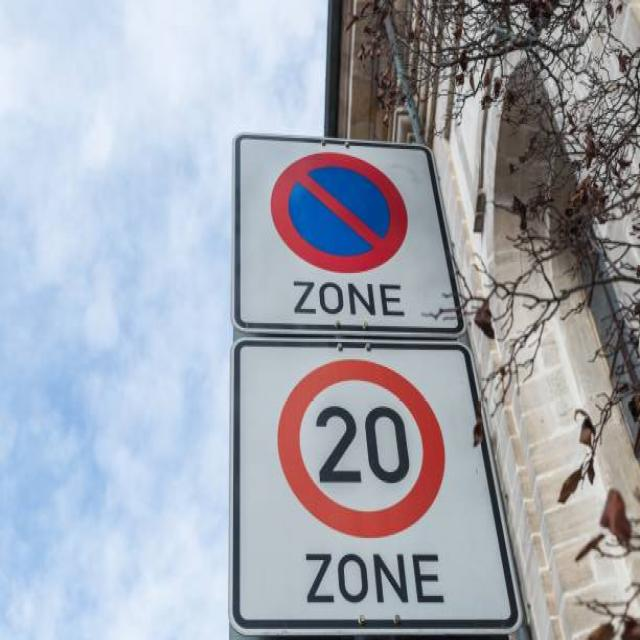speed_limit_20: (269, 352, 452, 535)
